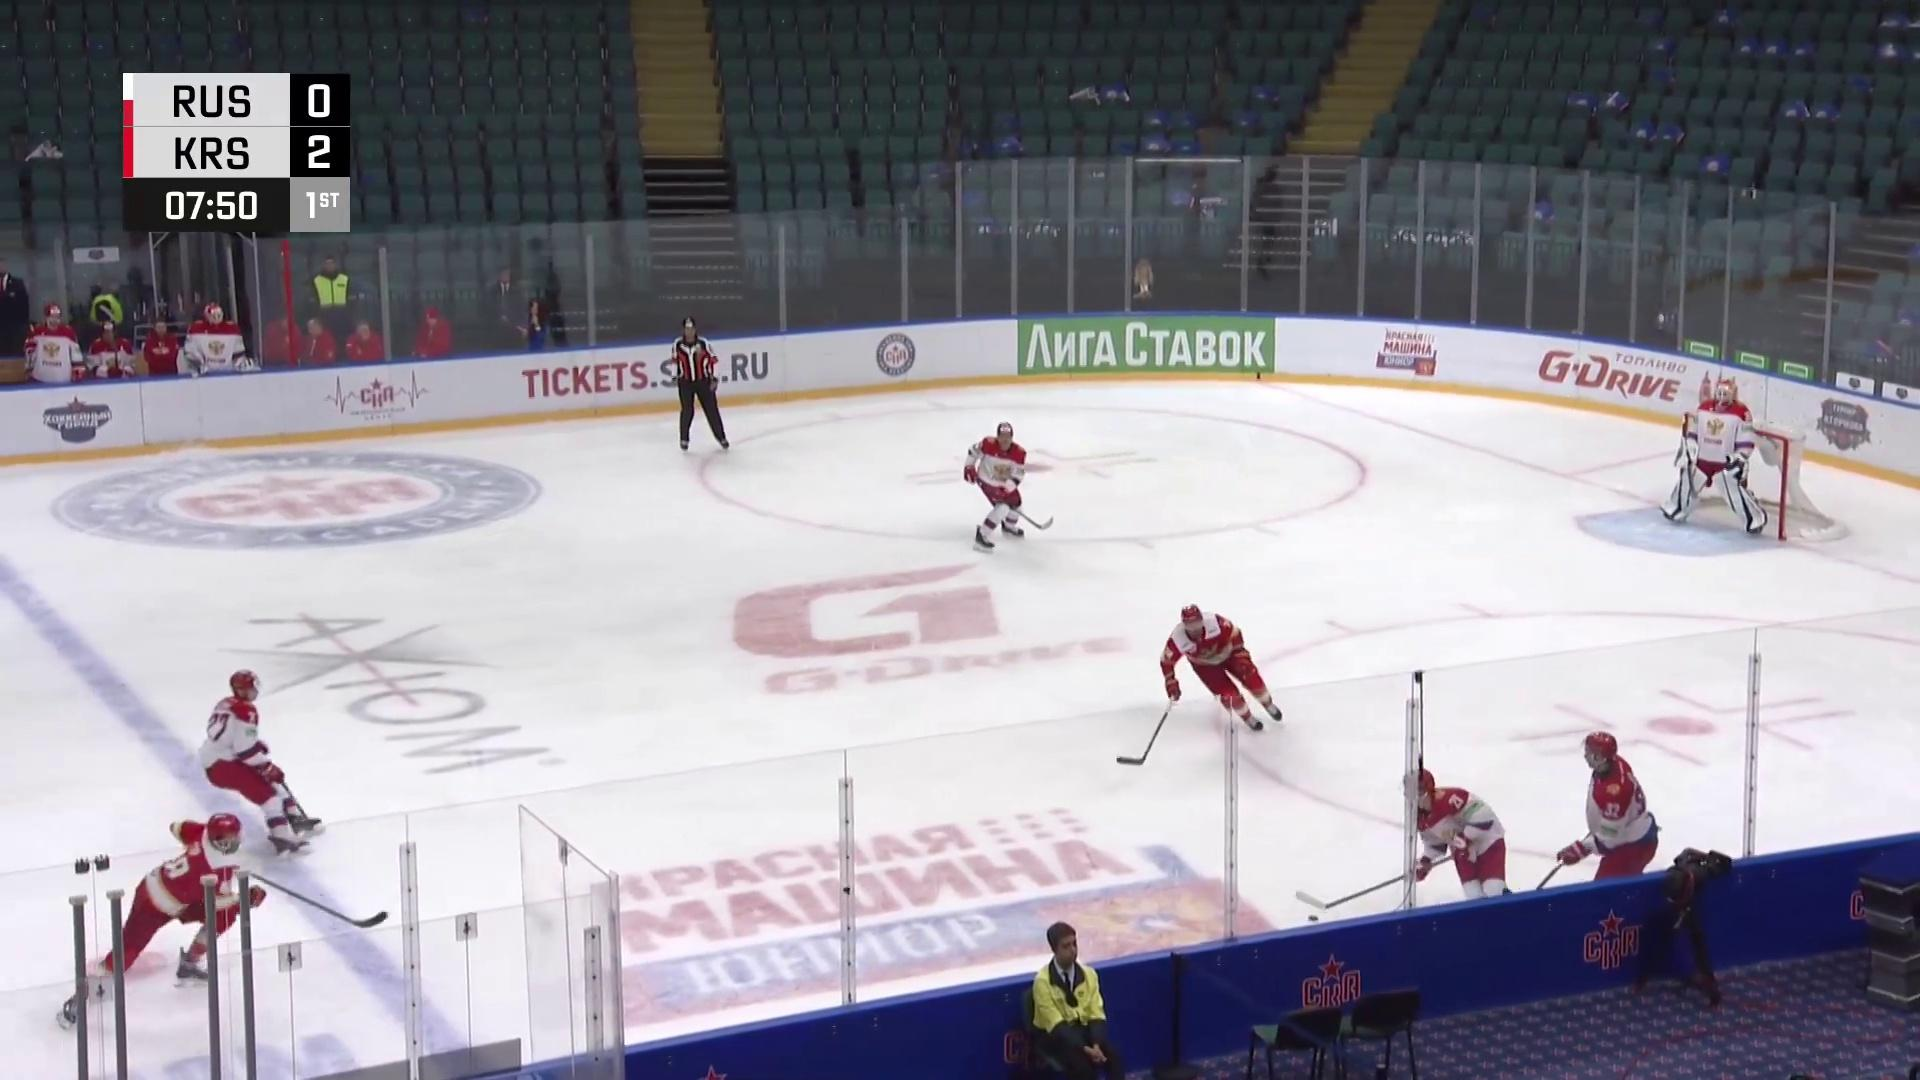ball: (1303, 914, 1323, 923)
